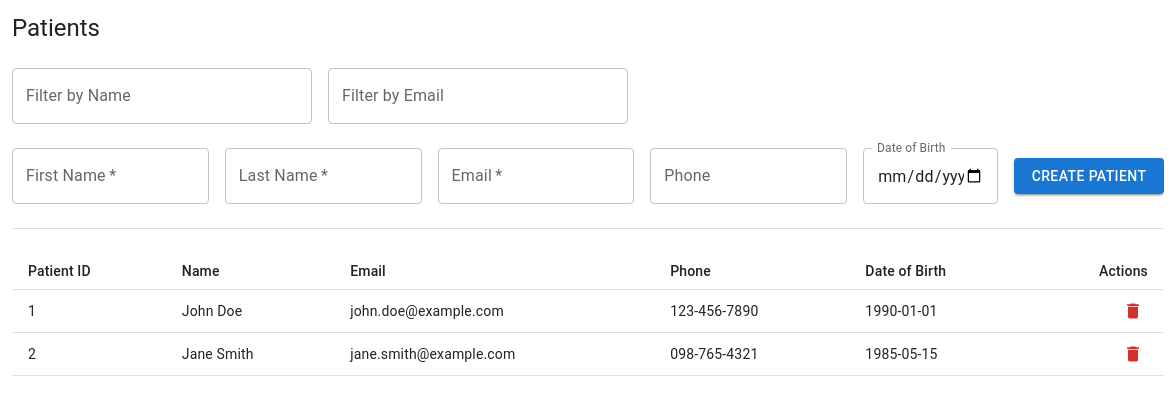
Test: PatientsPage › filters patients by name
expect the text "John Doe" is shown: met, box [166, 290, 334, 332]
Type "Jane" into the field with placeholder "Search by first or last name..." at (162,96), box [12, 68, 312, 124]
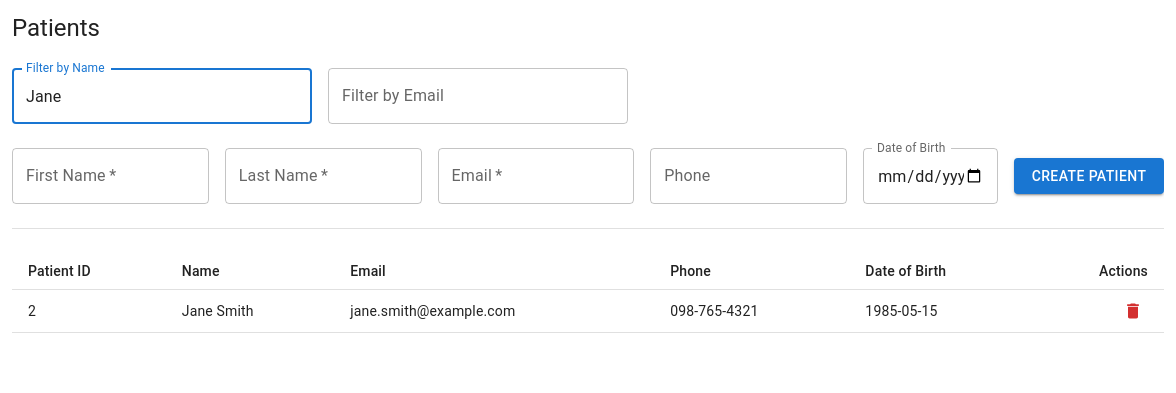
expect the text "Jane Smith" is shown: met, box [166, 290, 334, 332]
expect the text "John Doe" is gone: met
